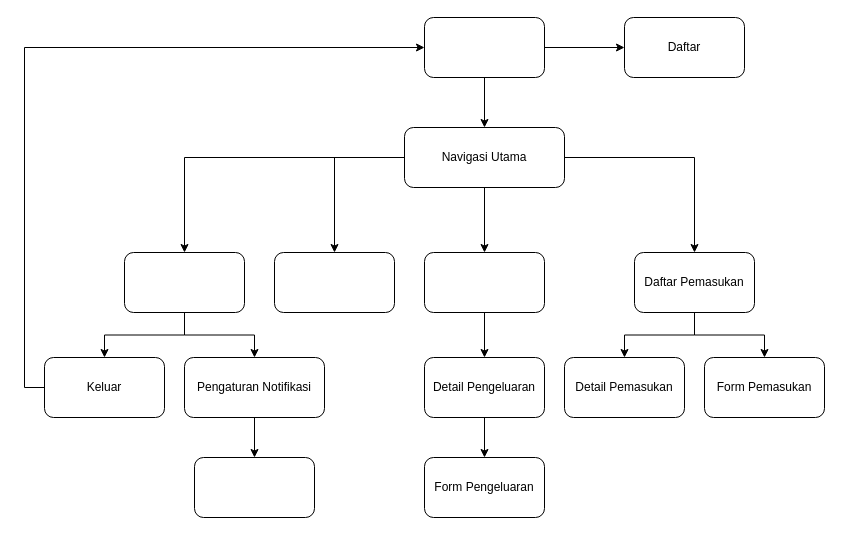
Some shapes in this 842 by 535 pixel diagram are drawn without their labels. Each missing label, with the centre of its shape:
Daftar Pengeluaran: the point at 484,282
Dashboard: the point at 184,282
Form Notifikasi: the point at 254,487
Masuk: the point at 484,47
Scan Struk: the point at 334,282
